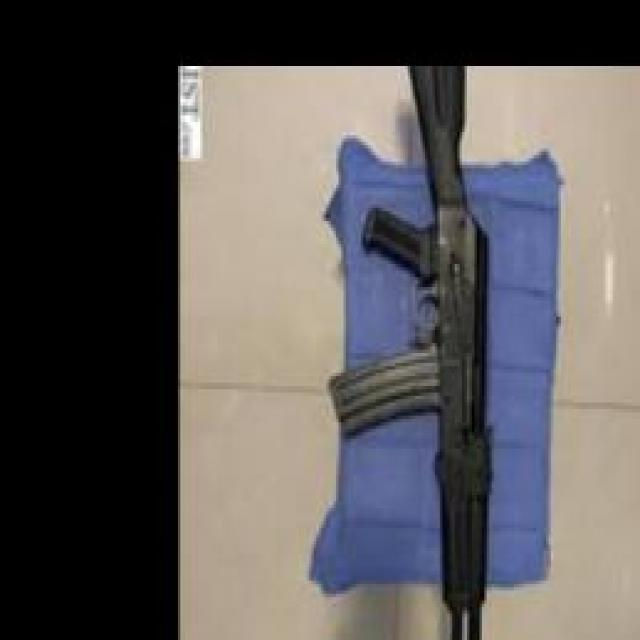weapon: (327, 67, 496, 640)
